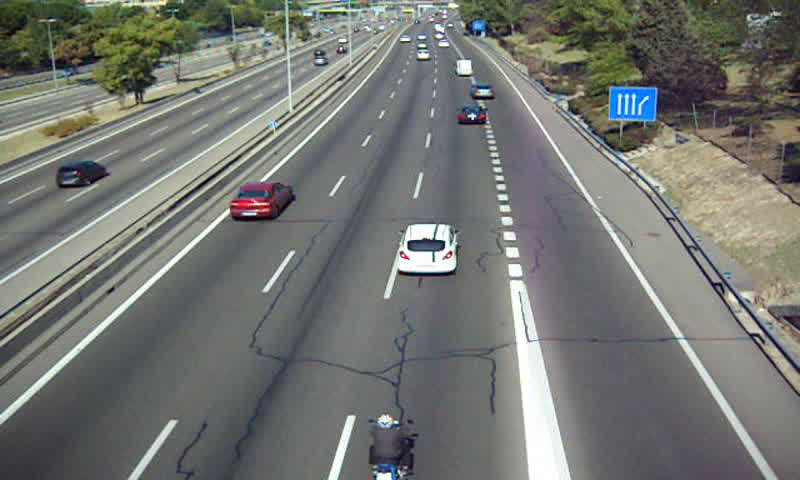car: (398, 224, 457, 274), (230, 182, 290, 221), (456, 105, 489, 125), (471, 83, 495, 101)
motorcycle: (364, 412, 412, 480)
van: (455, 59, 473, 76)
